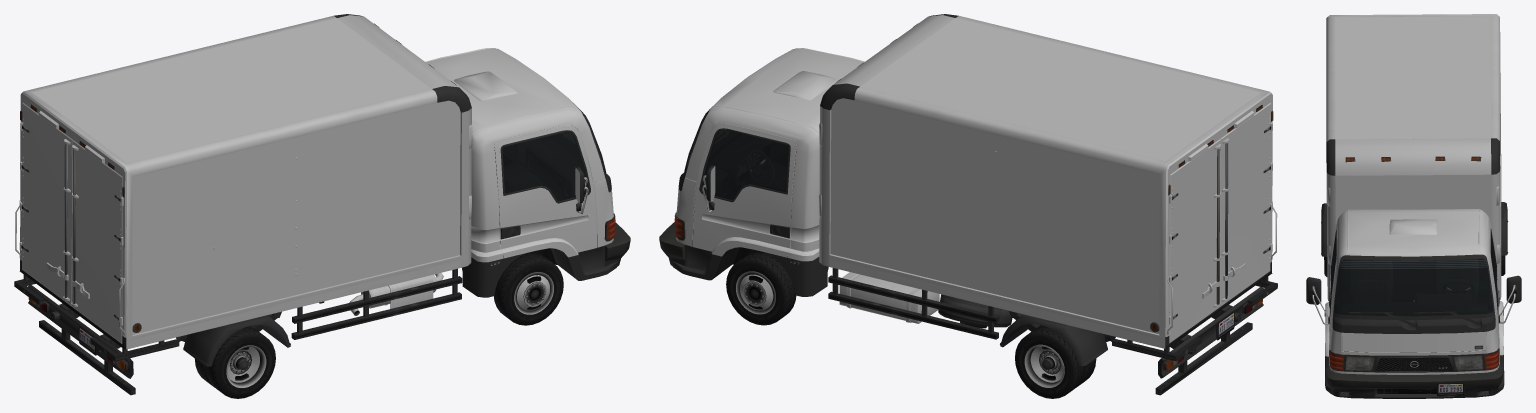
File: suv.glb
3 renders of one model, left to right at view 1: azimuth 30°, elevation 25°; view 2: azimuth 150°, elevation 25°; view 3: azimuth 270°, elevation 25°, orthographic. The views are drawn at different scales.
Parts seen in each view (by area): view 1: LCT300095_Body_lct3000_Bodymat_0, LCT300095_Bottom_UCB_BOTTOM_0, LCT300095_Reardoor_Left_lct3000_Bodymat_0, LCT300095_Reardoor_Right_lct3000_Bodymat_0, LCT300095_Glass_Passenger_UCB_Lights_and_Glass_Transperent_0, LCT300095_Interior_UCB_Interiors_2_0, LCT300095_WheelStock_FR_RB1c_Tire_1k_0, LCT300095_WheelStock_RR_RB1c_Tire_1k_0, LCT300095_Bumper_rear_UCB_BOTTOM_0, LCT300095_Reardoor_Left_Inner_UCB_BOTTOM_0, LCT300095_Reardoor_Right_Inner_UCB_BOTTOM_0, LCT300095_Bumper_front_UCB_BOTTOM_0; view 2: LCT300095_Body_lct3000_Bodymat_0, LCT300095_Bottom_UCB_BOTTOM_0, LCT300095_Reardoor_Right_lct3000_Bodymat_0, LCT300095_Reardoor_Left_lct3000_Bodymat_0, LCT300095_Glass_Driver_UCB_Lights_and_Glass_Transperent_0, LCT300095_WheelStock_FL_RB1c_Tire_1k_0, LCT300095_WheelStock_RL_RB1c_Tire_1k_0, LCT300095_Interior_UCB_Interiors_2_0, LCT300095_Bumper_rear_UCB_BOTTOM_0, LCT300095_Reardoor_Right_Inner_UCB_BOTTOM_0, LCT300095_Reardoor_Left_Inner_UCB_BOTTOM_0, LCT300095_Bumper_front_UCB_BOTTOM_0; view 3: LCT300095_Body_lct3000_Bodymat_0, LCT300095_Bottom_UCB_BOTTOM_0, LCT300095_Windshield_UCB_Lights_and_Glass_Transperent_0, LCT300095_Interior_UCB_Interiors_2_0, LCT300095_Bumper_front_UCB_BOTTOM_0, LCT300095_Headlights_Glass_UCB_Lights_and_Glass_Transperent_, LCT300095_Headlights_UCB_Lights_and_Glass_0, LCT300095_Numberplate_front_Numberplates_Misk_U_0, LCT300095_Glass_Driver_UCB_Lights_and_Glass_Transperent_0.
Boxes of the visible parts, x1,y1,x2,y2 form: LCT300095_Body_lct3000_Bodymat_0: (19,18,613,337); LCT300095_Bottom_UCB_BOTTOM_0: (14,14,615,395); LCT300095_Reardoor_Left_lct3000_Bodymat_0: (22,102,72,306); LCT300095_Reardoor_Right_lct3000_Bodymat_0: (72,140,122,343); LCT300095_Glass_Passenger_UCB_Lights_and_Glass_Transperent_0: (502,132,589,201); LCT300095_Interior_UCB_Interiors_2_0: (503,133,605,200); LCT300095_WheelStock_FR_RB1c_Tire_1k_0: (494,253,563,325); LCT300095_WheelStock_RR_RB1c_Tire_1k_0: (195,326,275,398); LCT300095_Bumper_rear_UCB_BOTTOM_0: (28,285,133,378); LCT300095_Reardoor_Left_Inner_UCB_BOTTOM_0: (21,125,70,300); LCT300095_Reardoor_Right_Inner_UCB_BOTTOM_0: (71,145,120,320); LCT300095_Bumper_front_UCB_BOTTOM_0: (605,223,630,273); LCT300095_Body_lct3000_Bodymat_0: (676,18,1272,336); LCT300095_Bottom_UCB_BOTTOM_0: (675,14,1277,395); LCT300095_Reardoor_Right_lct3000_Bodymat_0: (1219,103,1270,306); LCT300095_Reardoor_Left_lct3000_Bodymat_0: (1169,139,1220,343); LCT300095_Glass_Driver_UCB_Lights_and_Glass_Transperent_0: (701,130,788,200); LCT300095_WheelStock_FL_RB1c_Tire_1k_0: (726,252,796,325); LCT300095_WheelStock_RL_RB1c_Tire_1k_0: (1015,325,1096,398); LCT300095_Interior_UCB_Interiors_2_0: (685,132,787,199); LCT300095_Bumper_rear_UCB_BOTTOM_0: (1158,287,1263,378); LCT300095_Reardoor_Right_Inner_UCB_BOTTOM_0: (1221,125,1271,301); LCT300095_Reardoor_Left_Inner_UCB_BOTTOM_0: (1172,144,1221,319); LCT300095_Bumper_front_UCB_BOTTOM_0: (659,222,685,273); LCT300095_Body_lct3000_Bodymat_0: (1325,16,1503,374); LCT300095_Bottom_UCB_BOTTOM_0: (1306,14,1521,388); LCT300095_Windshield_UCB_Lights_and_Glass_Transperent_0: (1334,258,1493,316); LCT300095_Interior_UCB_Interiors_2_0: (1331,239,1496,355); LCT300095_Bumper_front_UCB_BOTTOM_0: (1325,366,1503,398); LCT300095_Headlights_Glass_UCB_Lights_and_Glass_Transperent_: (1329,349,1499,371); LCT300095_Headlights_UCB_Lights_and_Glass_0: (1345,355,1483,370); LCT300095_Numberplate_front_Numberplates_Misk_U_0: (1438,384,1462,394); LCT300095_Glass_Driver_UCB_Lights_and_Glass_Transperent_0: (1491,232,1497,308).
Size of the model in its own units: 6.02 by 2.85 by 2.61.
Materials: 8 (7 with a texture image).
